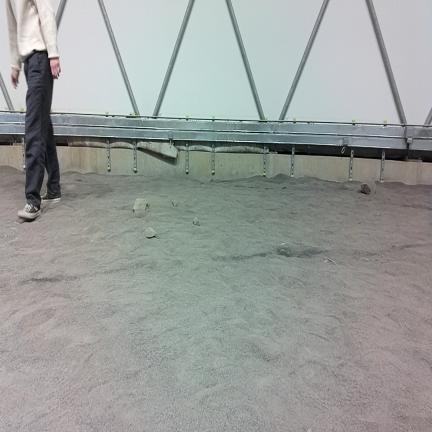Rock: (133, 199, 148, 216), (361, 182, 375, 194), (146, 228, 155, 238), (339, 183, 350, 189), (193, 217, 199, 225), (173, 200, 177, 206), (307, 428, 312, 432)
